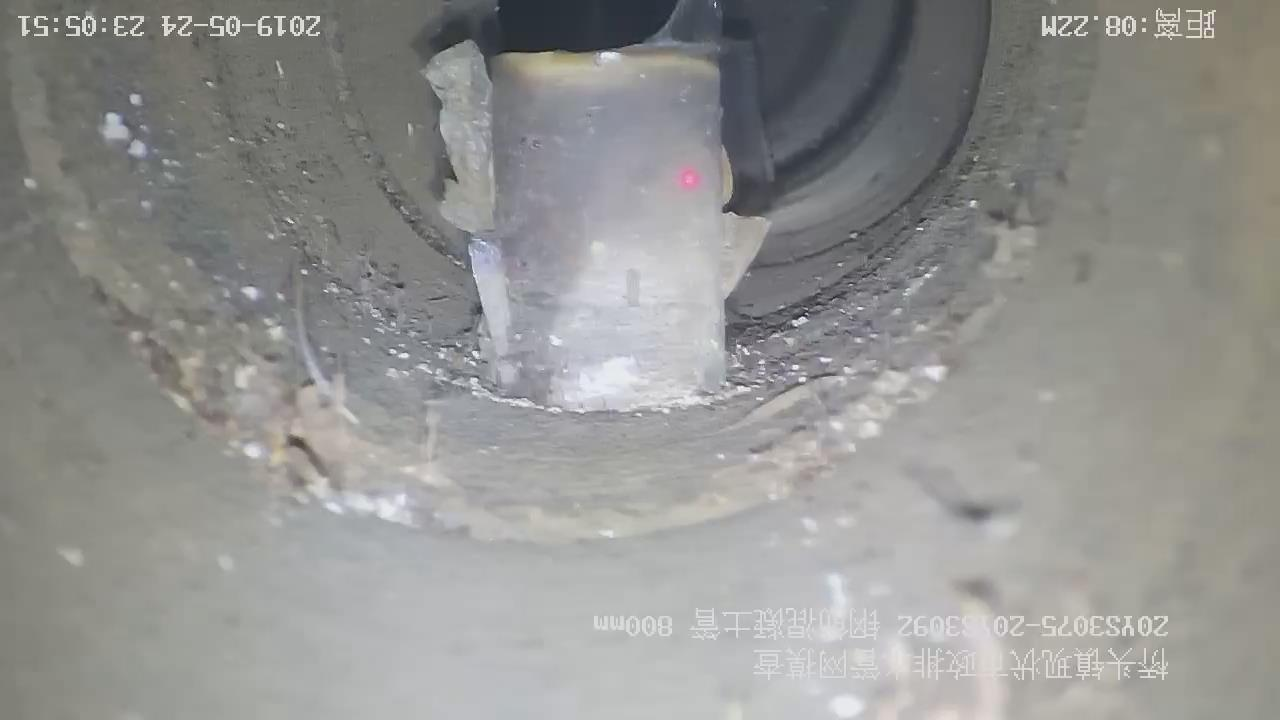ZGAJ: (427, 1, 771, 412)
